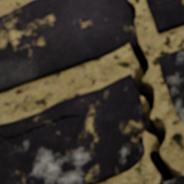brick: (0, 74, 144, 183), (0, 0, 132, 92), (158, 48, 183, 122), (146, 0, 183, 33), (157, 175, 183, 183)
crack: (127, 0, 182, 182), (0, 114, 78, 137)
